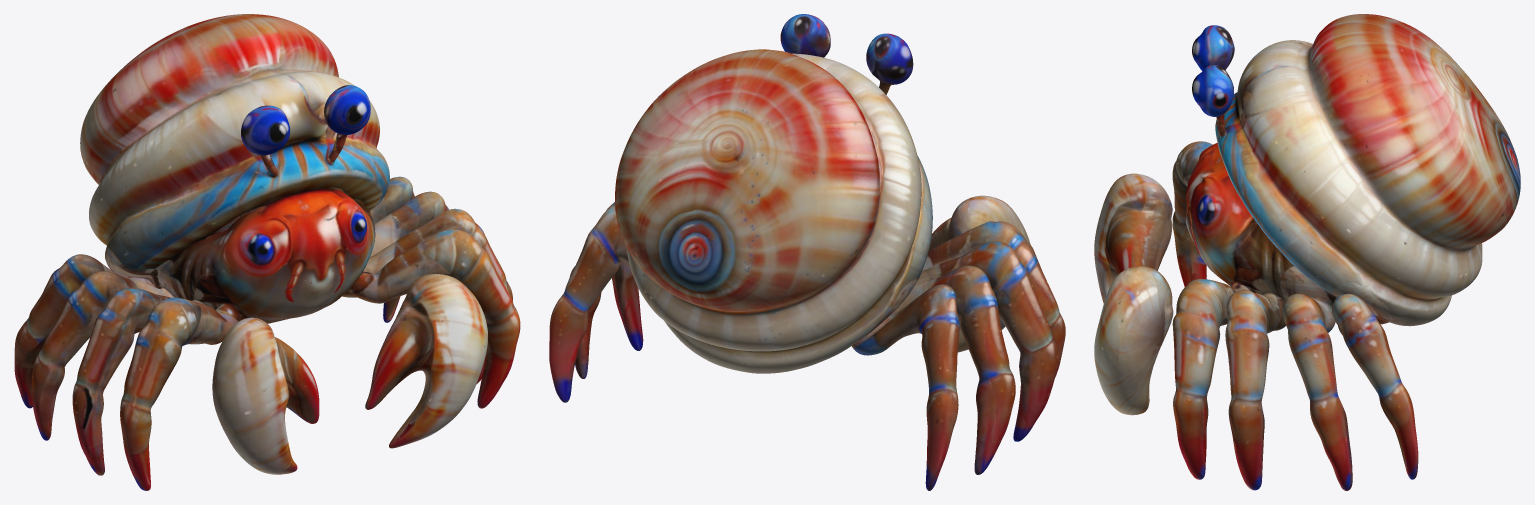
Rendered from hermit_crab.glb.
The picture shows the model from 3 angles, left to right: view 1: azimuth 30°, elevation 25°; view 2: azimuth 150°, elevation 25°; view 3: azimuth 270°, elevation 25°; orthographic projection. The views are drawn at different scales.
Size of the model in its own units: 2 by 1.62 by 1.68.
Materials: 1 (1 with a texture image).
